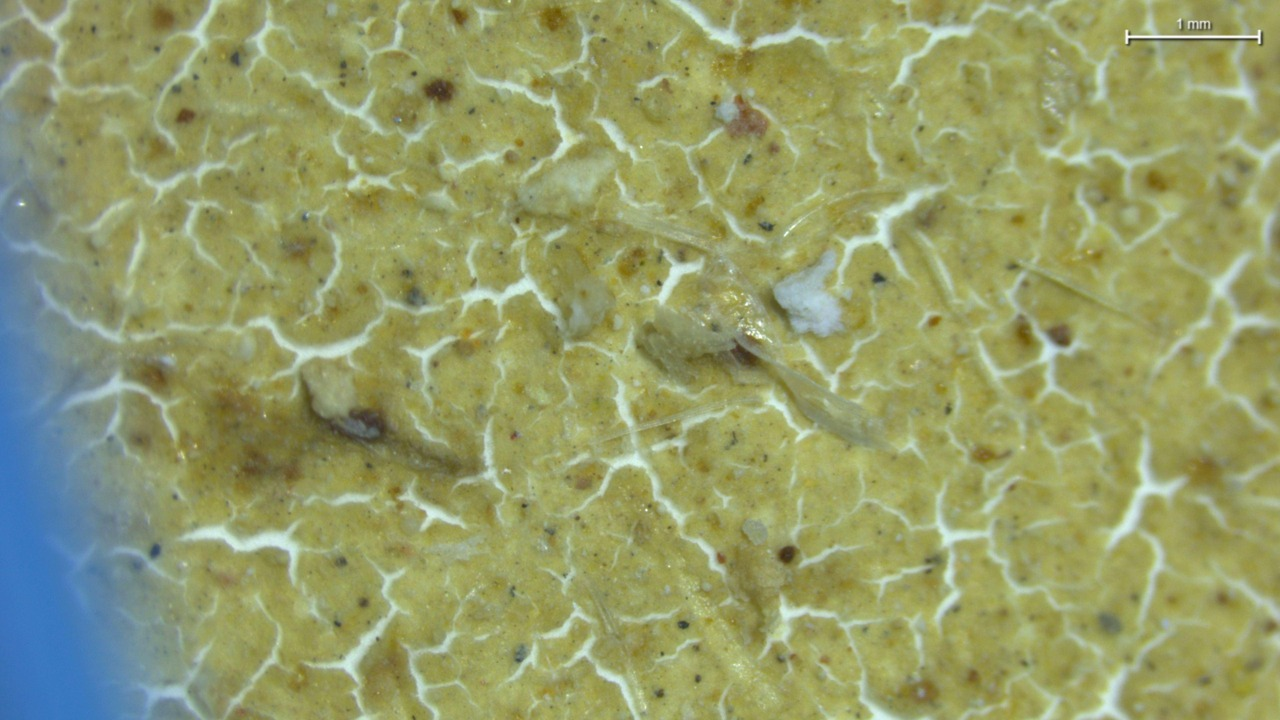microplastic_fragment: (773, 251, 846, 338), (297, 358, 356, 425)
